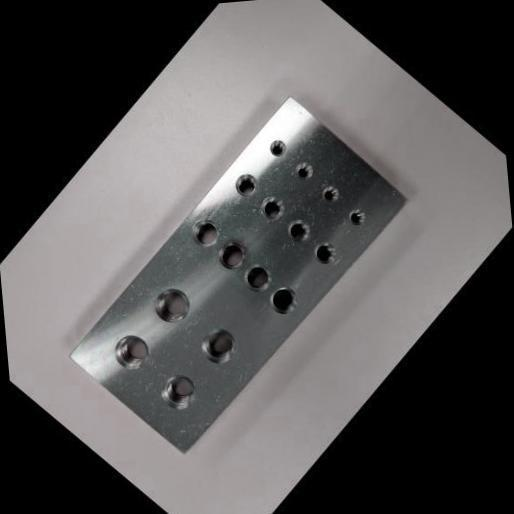hole: (150, 363, 206, 418), (145, 276, 200, 332), (190, 317, 246, 372), (104, 324, 158, 378), (182, 209, 228, 254), (235, 254, 279, 298), (262, 278, 306, 322), (209, 232, 252, 276), (279, 211, 317, 248), (227, 165, 264, 202), (253, 188, 290, 225), (306, 234, 344, 270), (288, 156, 318, 184), (343, 202, 371, 230), (264, 134, 292, 161), (316, 180, 344, 206)
